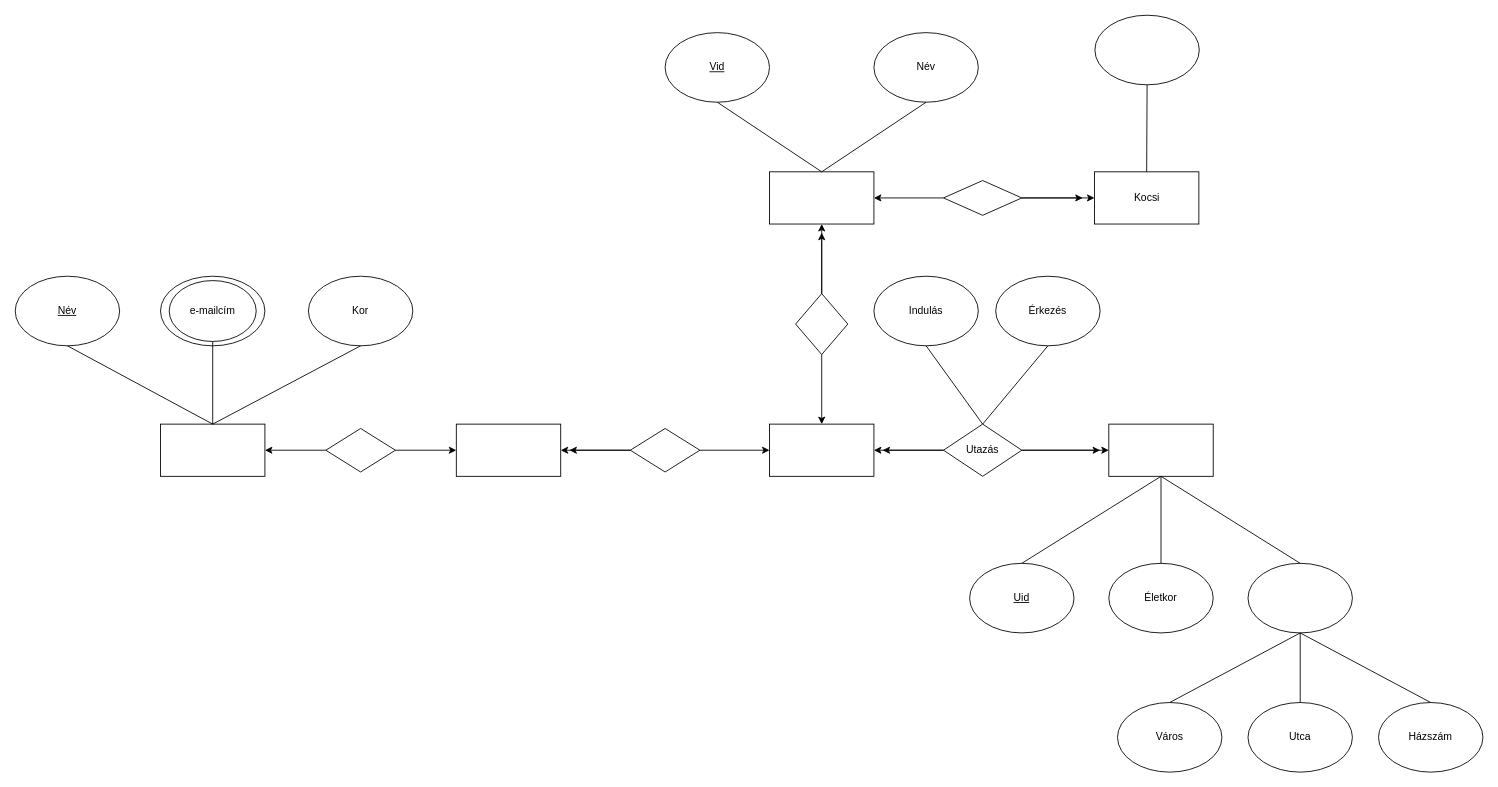
Image size: 1498x787. Some labels were removed from this diagram. The centre of each missing label's shape, as x and y in pixels:
"Busz" goes at pixel 508 449.
"Jármű" goes at pixel 821 449.
"Lakcím" goes at pixel 1299 597.
"Sofőr" goes at pixel 212 449.
"Szám" goes at pixel 1146 49.
"Utas" goes at pixel 1160 449.
"Vonat" goes at pixel 821 197.
